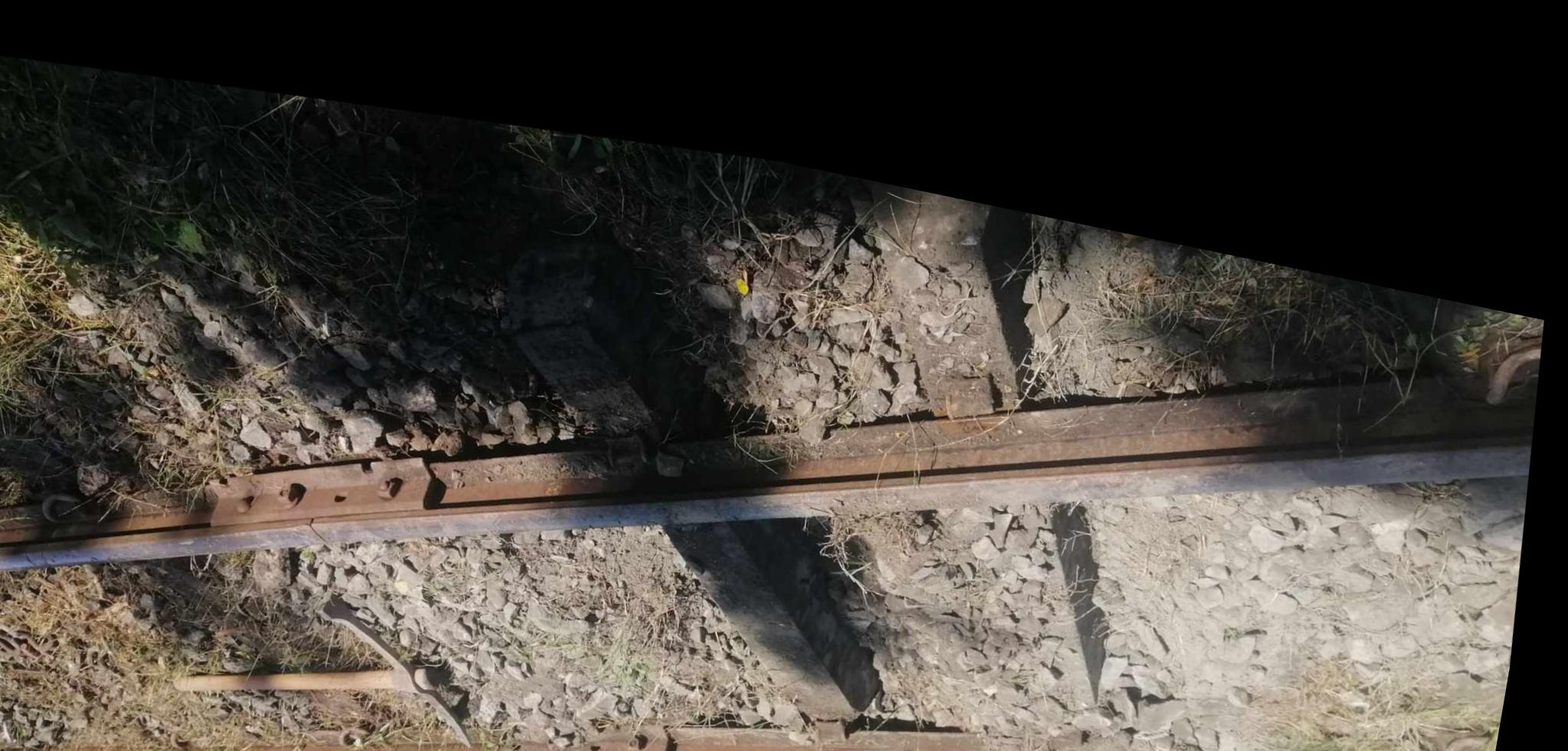person: (299, 481, 372, 548), (567, 712, 624, 751)
